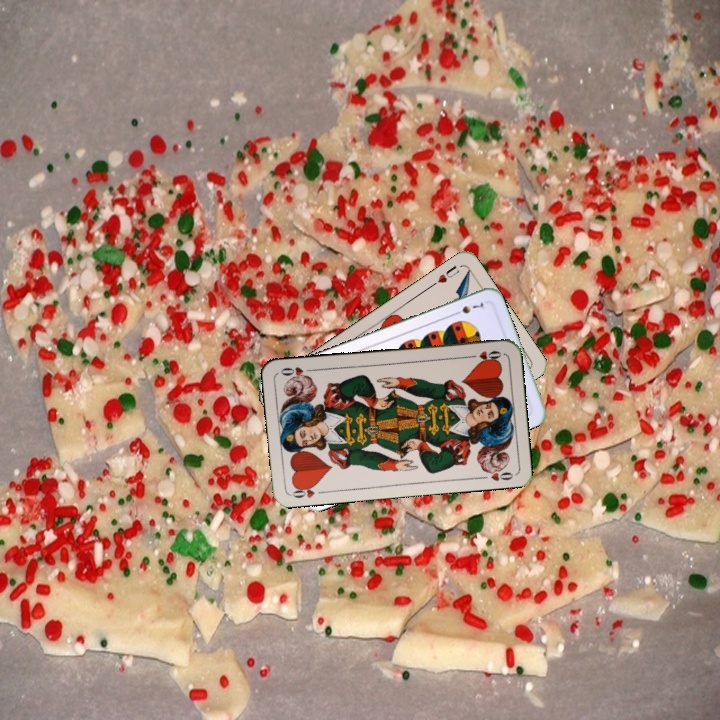HO: (464, 346, 504, 364), (287, 480, 319, 500)
HU: (428, 261, 462, 289)
S7: (449, 298, 488, 318)
